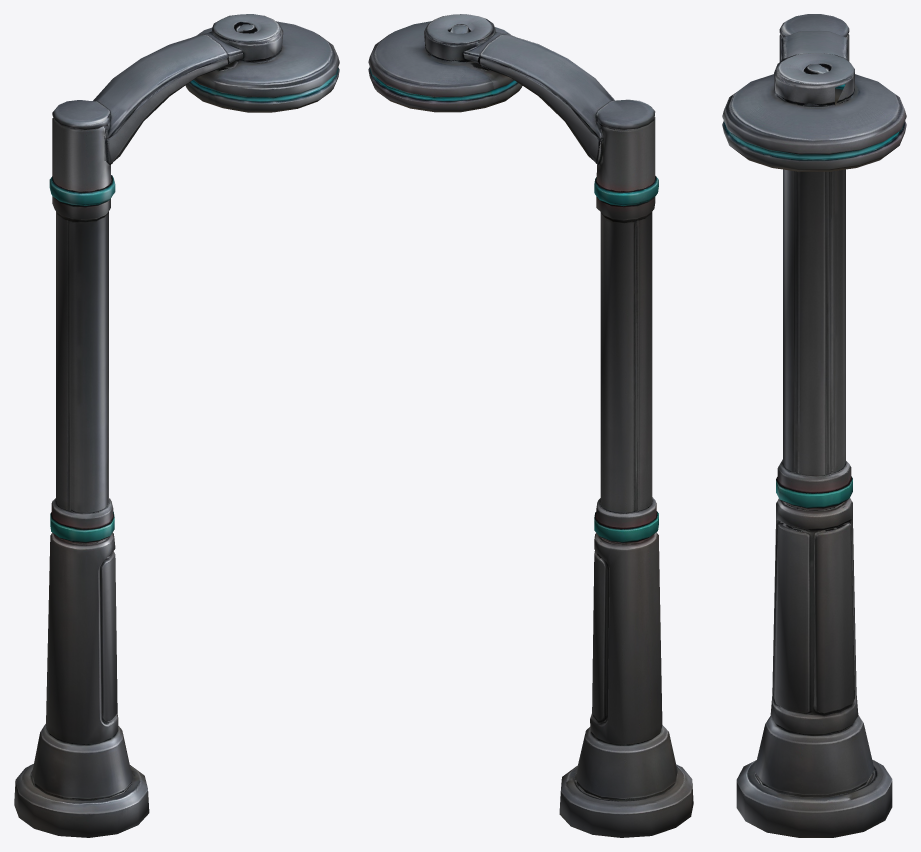
The model's file is torch.fbx.
The picture shows the model from 3 angles, left to right: view 1: azimuth 30°, elevation 25°; view 2: azimuth 150°, elevation 25°; view 3: azimuth 270°, elevation 25°; orthographic projection. The views are drawn at different scales.
Parts seen in each view (by area): view 1: torch; view 2: torch; view 3: torch.
Part boxes in pixels (x1,y1,x2,y2): torch: (14,14,339,837); torch: (368,14,693,837); torch: (722,14,906,837).
Bounding box in the file's own units: 1.44 × 3.4 × 0.6853.
